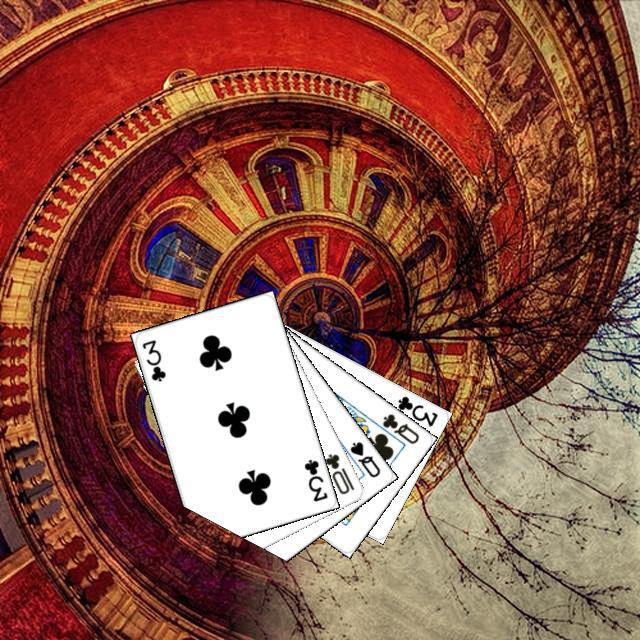10c: (320, 449, 356, 496)
3c: (393, 391, 440, 428), (299, 454, 329, 503), (137, 335, 167, 383)
Qc: (369, 408, 421, 449)
Qs: (345, 436, 382, 479)
